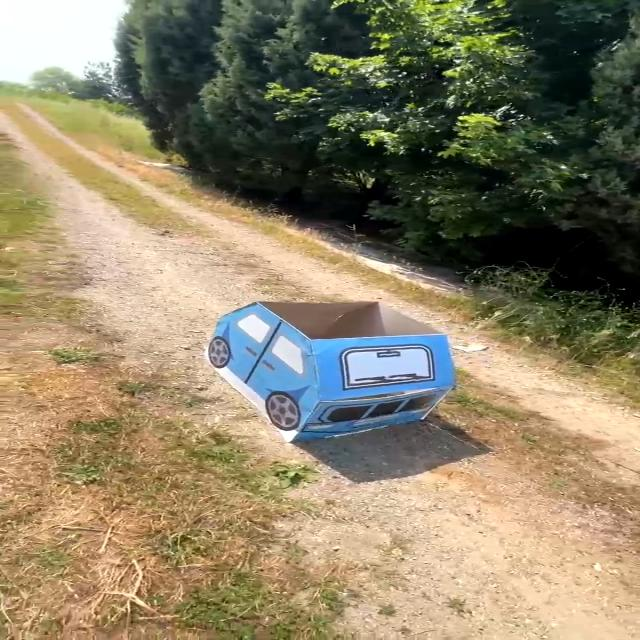blue_car: (176, 285, 469, 463)
